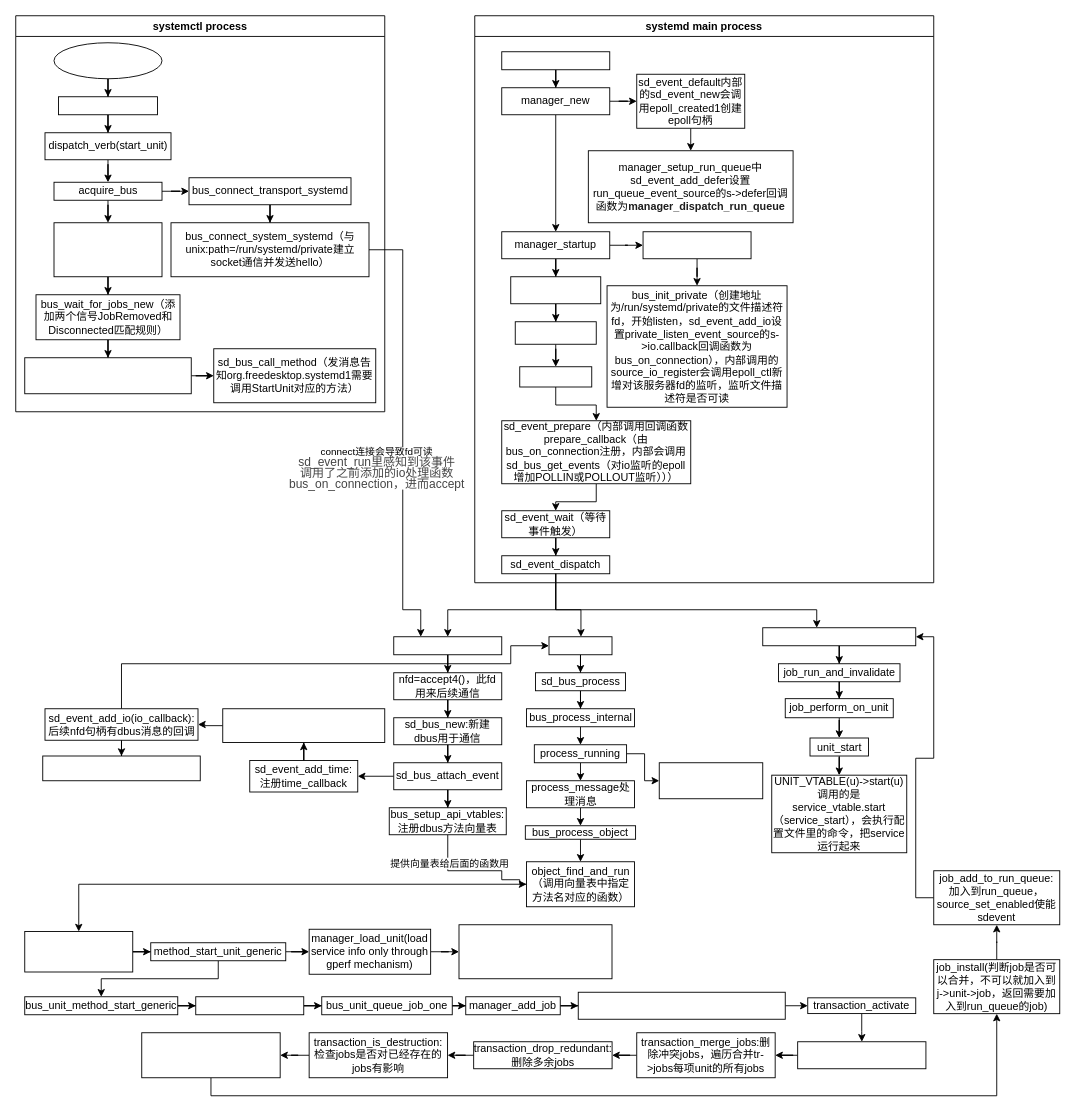
Image size: 1076x1119. Some labels were removed from this diagram. The centre of each missing label's shape, as x and y in pixels:
bus_attach_io_events set_prepare(prepare_callback): pixel 303 725
bus_on_connection: pixel 447 645
bus_read_message（内部调用会调用recv获取消息）: pixel 710 780
bus_unit_queue_job: pixel 249 1005
invoke_main_loop: pixel 555 290
io_callback: pixel 580 645
main: pixel 555 60
manager_dispatch_run_queue: pixel 839 636
manager_load_unit_prepare把当前事件加入load/dbus/gc队列: pixel 535 951
manager_loop: pixel 555 332
manager_setup_bus（设置bus连接）: pixel 696 245
sd_event_run: pixel 555 376
sd_event_source_set_prepare:增加POLLIN事件: pixel 121 768
start_unit_one（触发一个StartUnit的函数调用并等待结果返回）: pixel 107 375
systemctl start xxx.service: pixel 107 60
systemctl_main: pixel 108 105
transaction_add_job_and_dependencies:遍历与当前job有关联的unit，添加依赖: pixel 681 1005
transaction_apply:实施transaction: pixel 210 1055
transaction_verify_order:j检查循环依赖/破环: pixel 861 1055
收到消息后会调用StartUnit对应的方法method_start_unit: pixel 78 951
设置method="StartUnit", job_type="start", mode="replace": pixel 107 249
